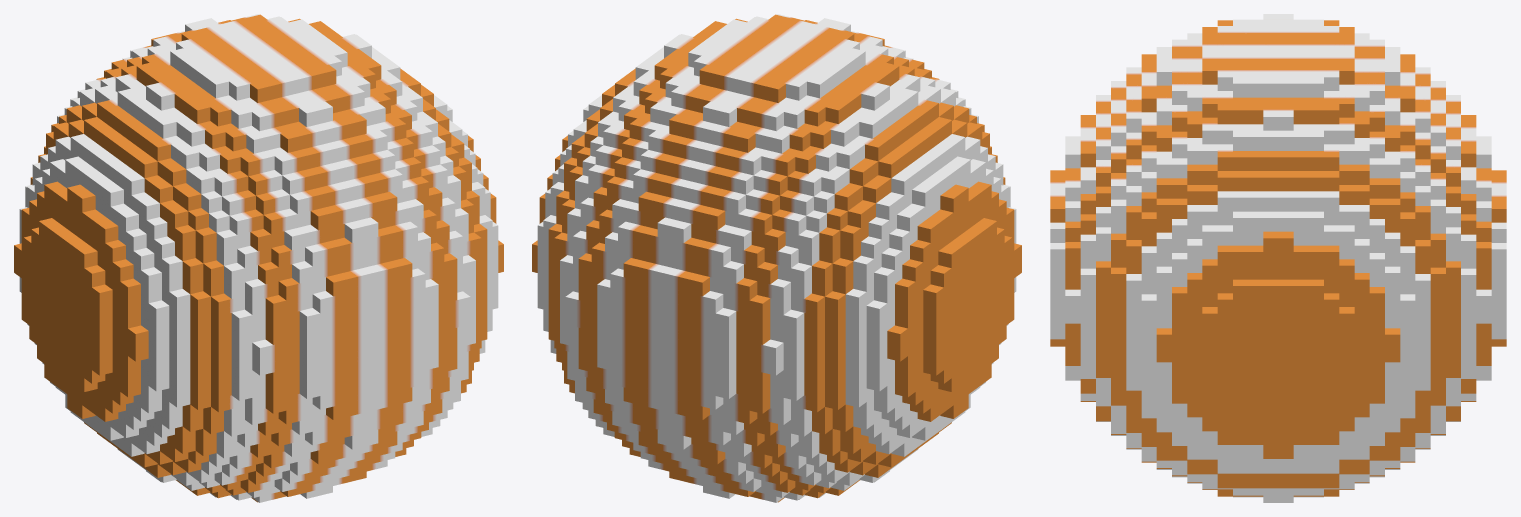
Rendered from Character_5.fbx.
3 views of the same model, side by side, from view 1: azimuth 30°, elevation 25°; view 2: azimuth 150°, elevation 25°; view 3: azimuth 270°, elevation 25° (orthographic).
Visible parts, largest first — view 1: Character_5; view 2: Character_5; view 3: Character_5.
Part boxes in pixels (left/top/right/bottom): Character_5: left=14, top=14, right=503, bottom=502; Character_5: left=532, top=14, right=1021, bottom=502; Character_5: left=1050, top=14, right=1506, bottom=502.
Size of the model in its own units: 30 by 30 by 30.
Materials: 1 (1 with a texture image).
